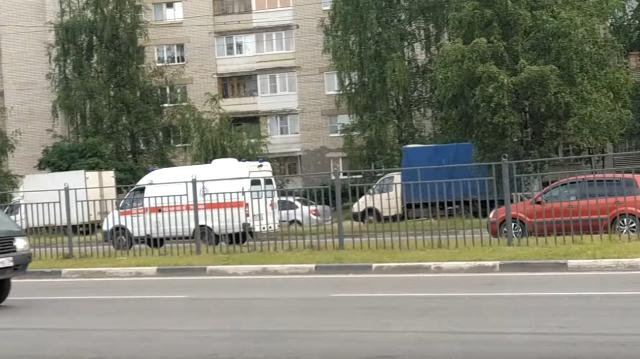ambulance: (103, 158, 279, 250)
non emergency car: (352, 143, 518, 223), (486, 173, 640, 239), (4, 170, 118, 237), (1, 206, 32, 306), (279, 195, 333, 229)
